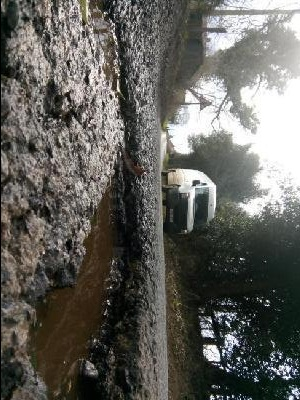pothole: (16, 0, 145, 400)
